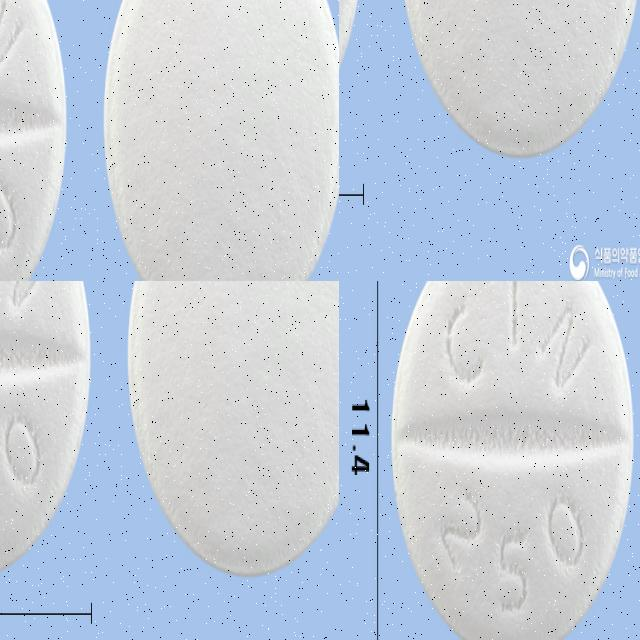CTcin: (389, 281, 636, 640)
Clarith: (339, 3, 469, 263)
Clocin: (89, 0, 339, 138), (0, 64, 127, 281)
Clorid: (0, 311, 144, 579), (109, 281, 339, 393)
